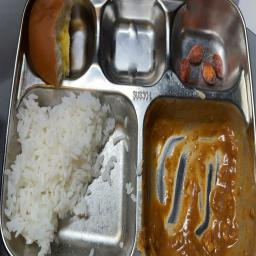25_nuts: (175, 12, 235, 87)
50_bread: (27, 0, 93, 85)
50_rice: (9, 87, 133, 256)
empty: (147, 97, 242, 256), (98, 3, 163, 88)
